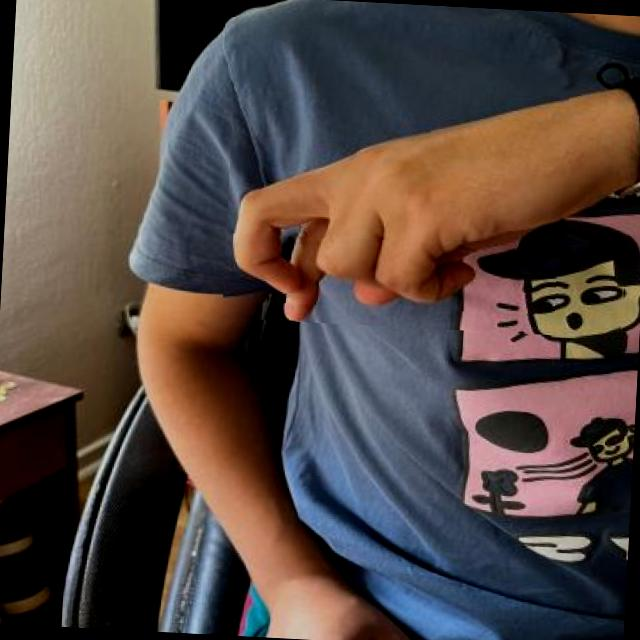P: (222, 61, 638, 339)
